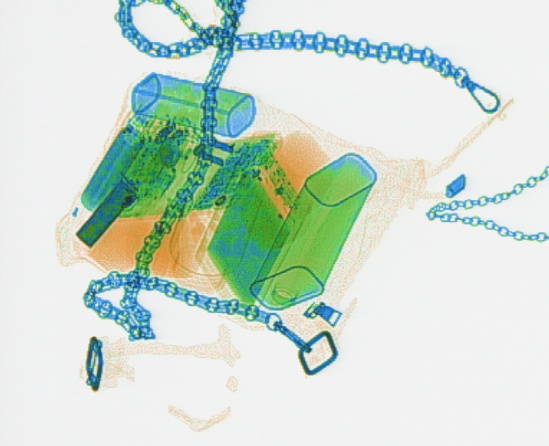powerbank: (76, 100, 207, 223)
zippooil: (248, 152, 379, 313)
